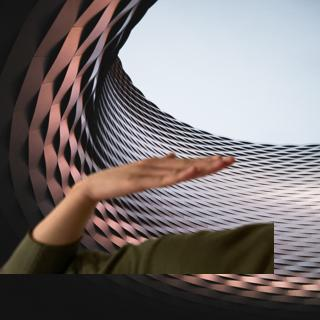WAIT: (83, 149, 242, 203)
